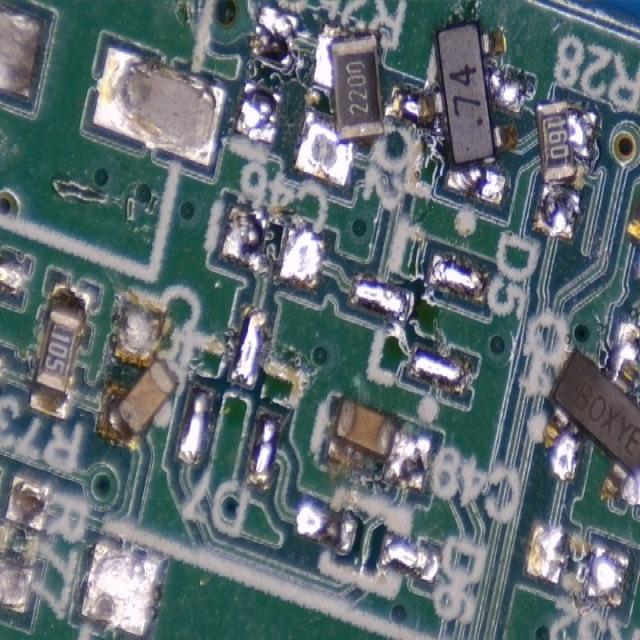Incorrect_installation: (387, 20, 525, 207), (542, 321, 640, 506), (293, 23, 385, 186), (96, 295, 177, 451), (326, 398, 432, 494), (533, 100, 600, 242)
